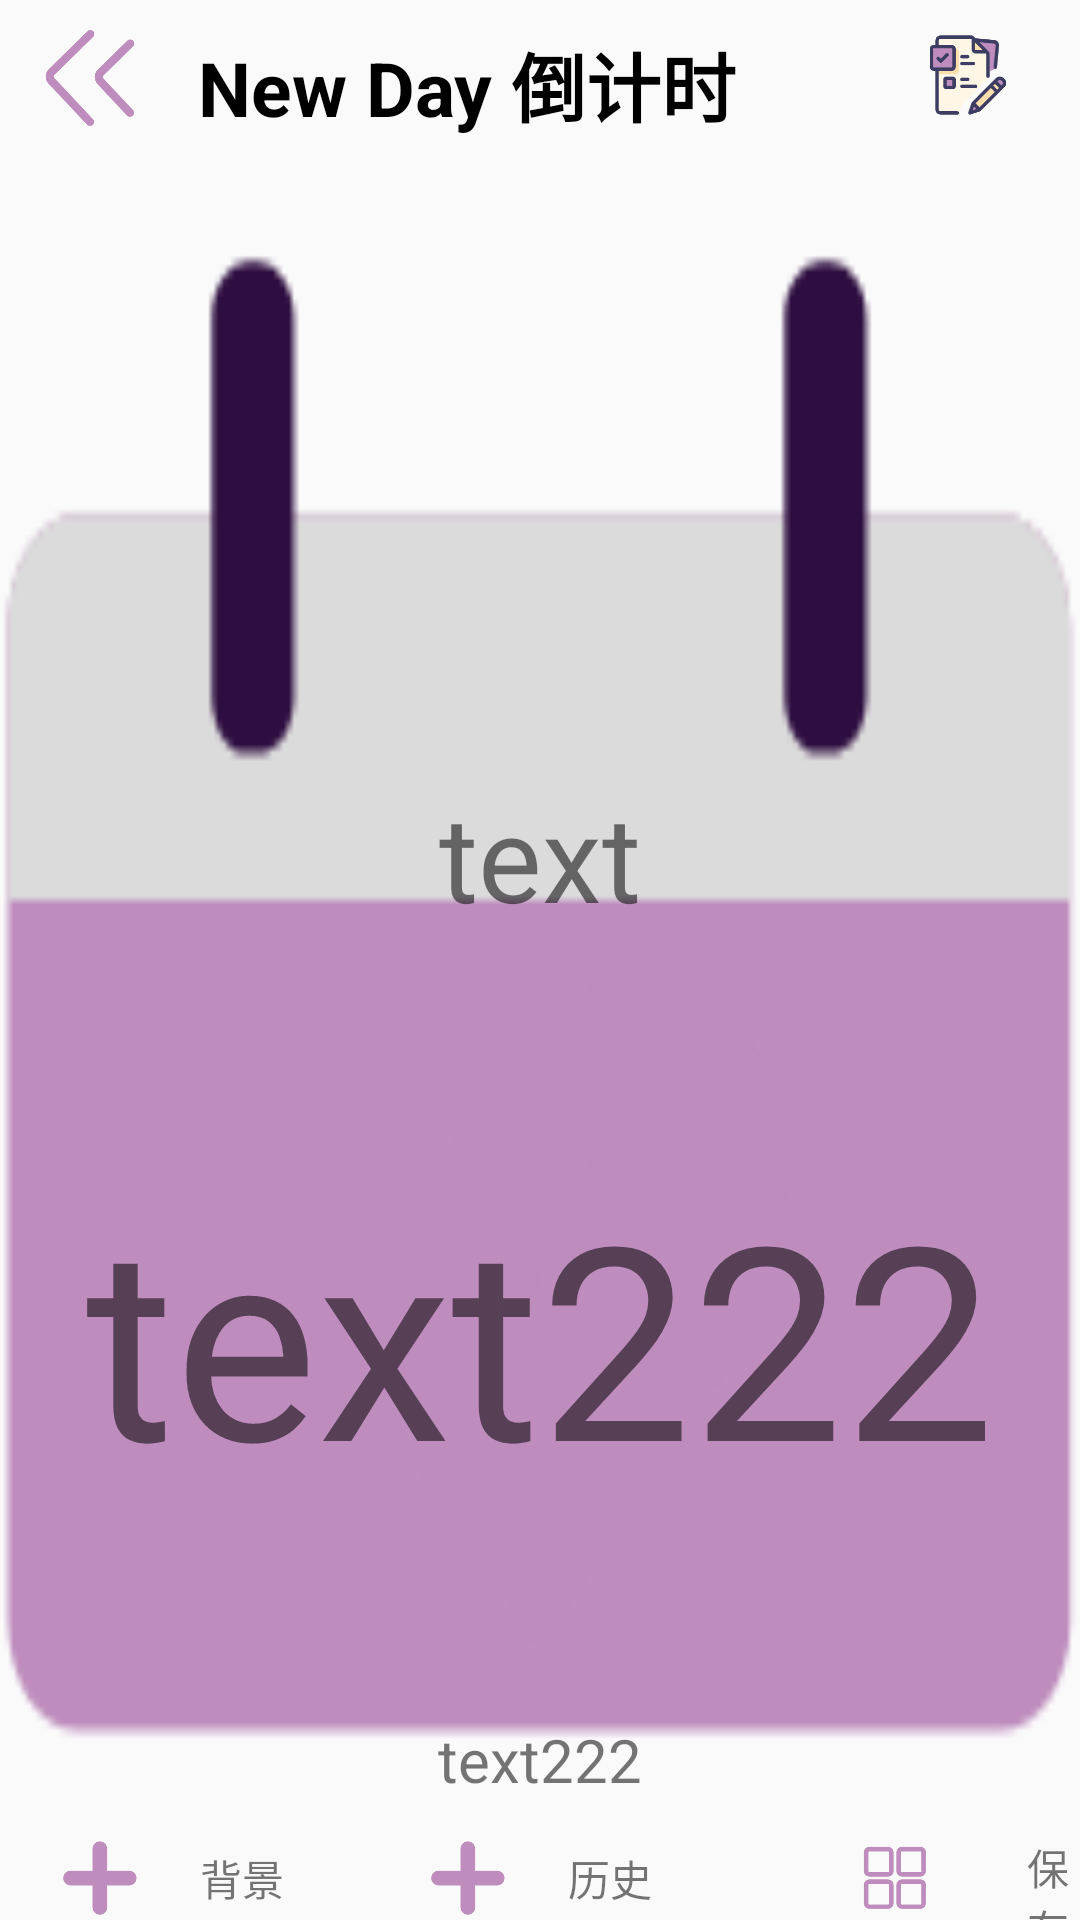

Where icons sit on this 1080 x 1920 app screen, as (x1, y1, x2, y2):
adddate: (63, 1841, 137, 1915), (431, 1841, 505, 1915)
back: (46, 30, 134, 126)
fangge: (864, 1847, 926, 1909)
write: (930, 35, 1006, 115)
